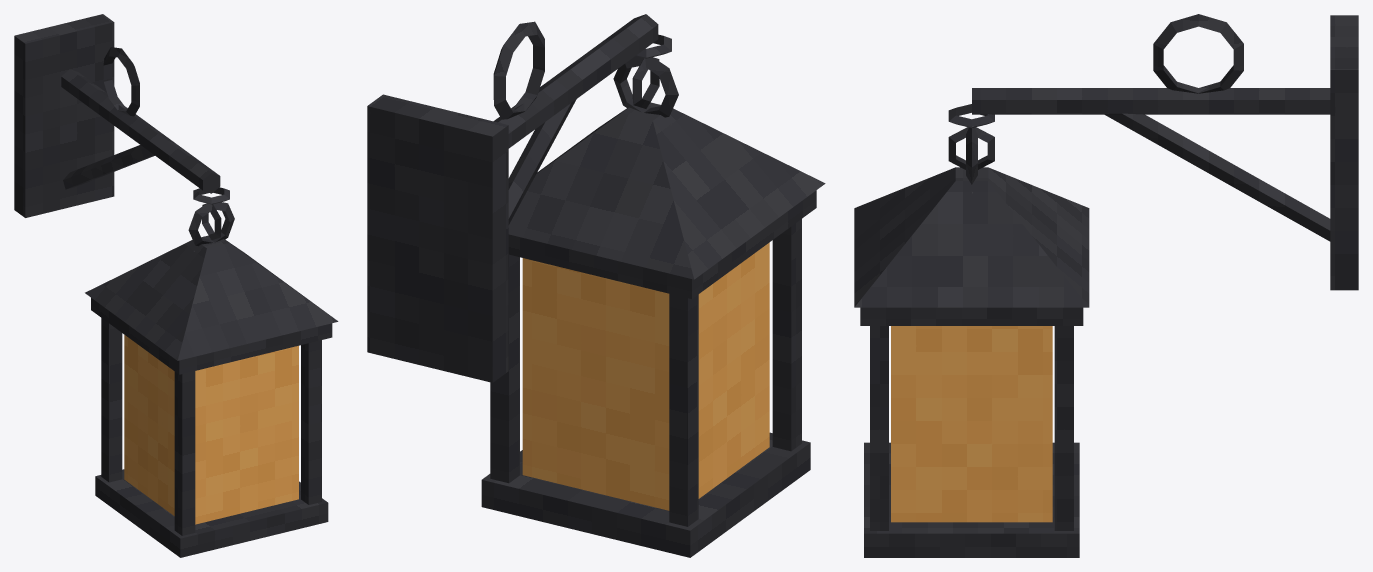
The model's file is lantern_wall.obj.
3 renders of one model, left to right at view 1: azimuth 30°, elevation 25°; view 2: azimuth 150°, elevation 25°; view 3: azimuth 270°, elevation 25°, orthographic. The views are drawn at different scales.
Parts seen in each view (by area): view 1: lantern_wall; view 2: lantern_wall; view 3: lantern_wall.
Boxes of the visible parts, x1,y1,x2,y2 form: lantern_wall: (14, 14, 338, 557); lantern_wall: (367, 14, 825, 557); lantern_wall: (854, 14, 1358, 557).
Bounding box in the file's own units: 0.2902 × 0.679 × 0.6226.
